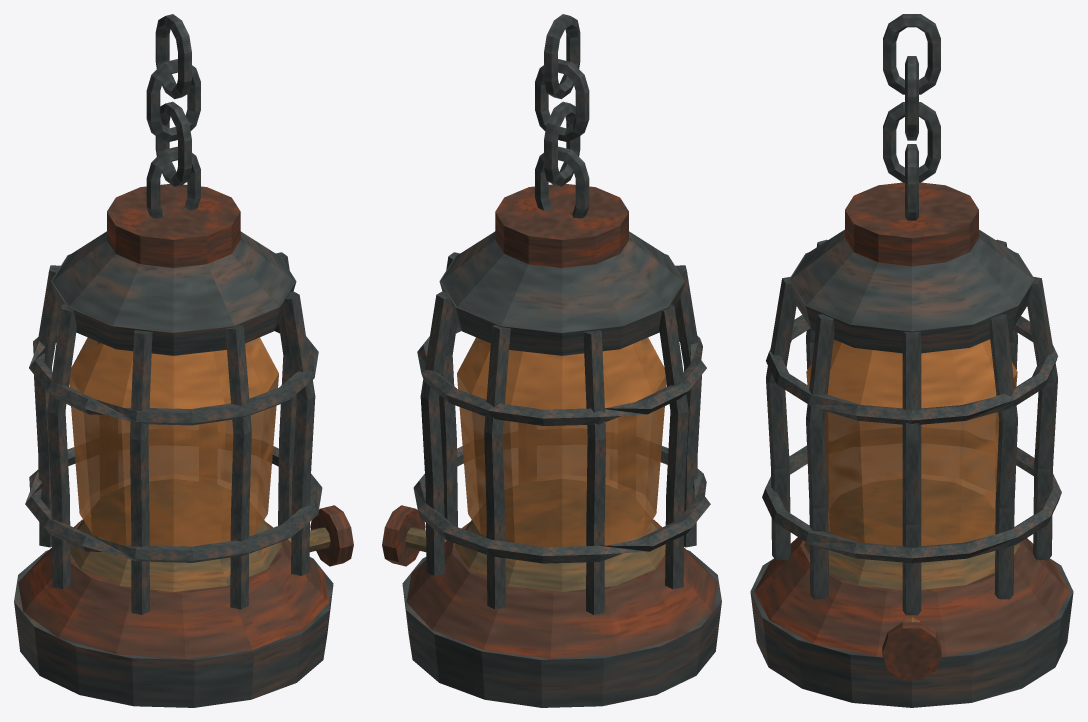
The model's file is farol_queroseno.glb.
3 renders of one model, left to right at view 1: azimuth 30°, elevation 25°; view 2: azimuth 150°, elevation 25°; view 3: azimuth 270°, elevation 25°, orthographic.
Parts seen in each view (by area): view 1: farol_queroseno; view 2: farol_queroseno; view 3: farol_queroseno.
Boxes of the visible parts, box(x1,y1,x2,y2) form: farol_queroseno: box(14, 14, 353, 707); farol_queroseno: box(382, 14, 721, 707); farol_queroseno: box(750, 14, 1073, 707).
Size of the model in its own units: 0.284 by 0.5562 by 0.26.
Materials: 1 (1 with a texture image).
